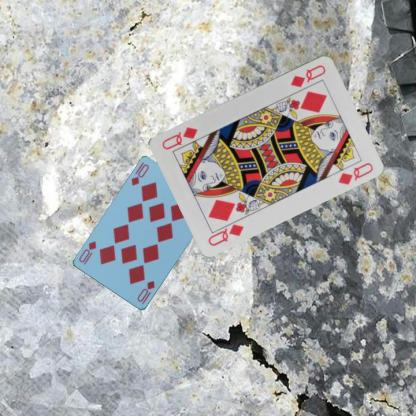10d: (129, 160, 150, 187), (135, 279, 156, 305)
Qd: (205, 214, 245, 248), (288, 62, 327, 88)
